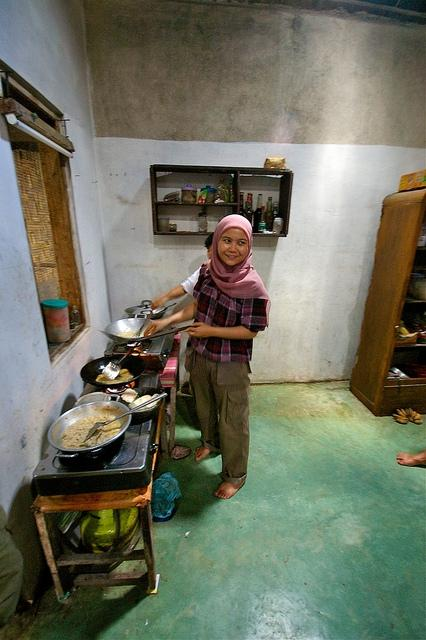banana: (396, 409, 408, 418), (394, 418, 408, 424), (404, 407, 410, 418), (413, 413, 421, 420), (412, 411, 416, 419)
